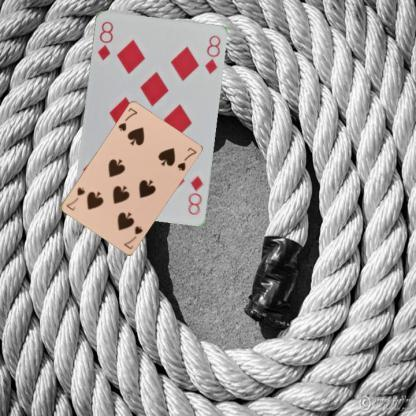7s: (116, 105, 139, 133), (121, 223, 144, 250)
8d: (94, 19, 115, 62), (184, 173, 204, 216)
